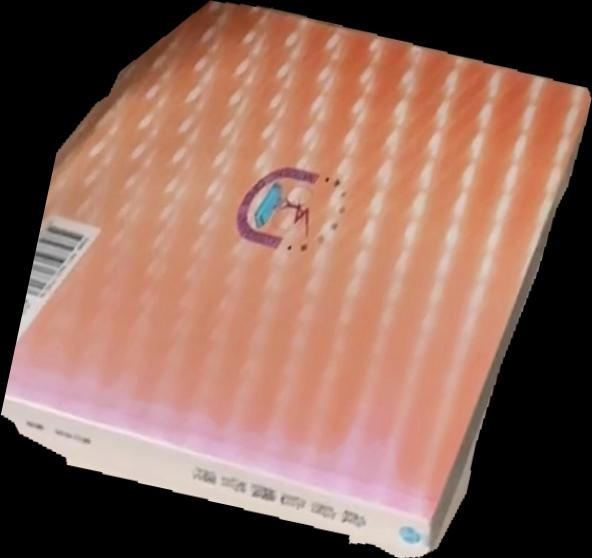flat: (1, 1, 592, 558)
